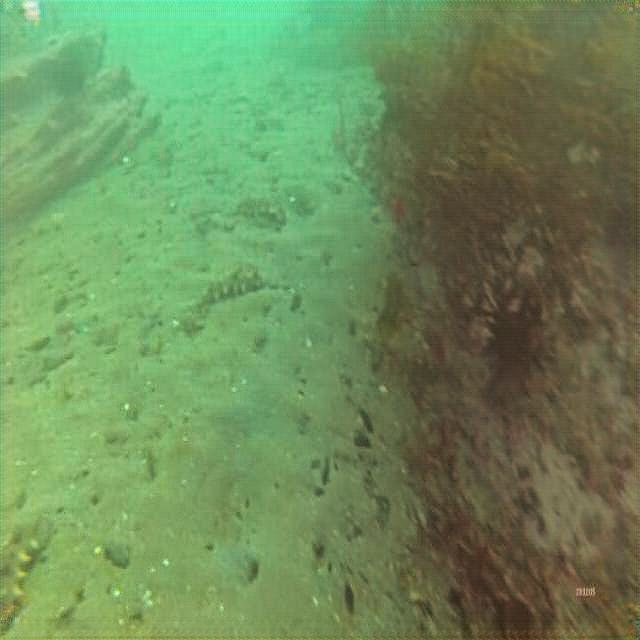echinus: (476, 276, 552, 400)
holothurian: (5, 509, 42, 640), (202, 270, 268, 304)
